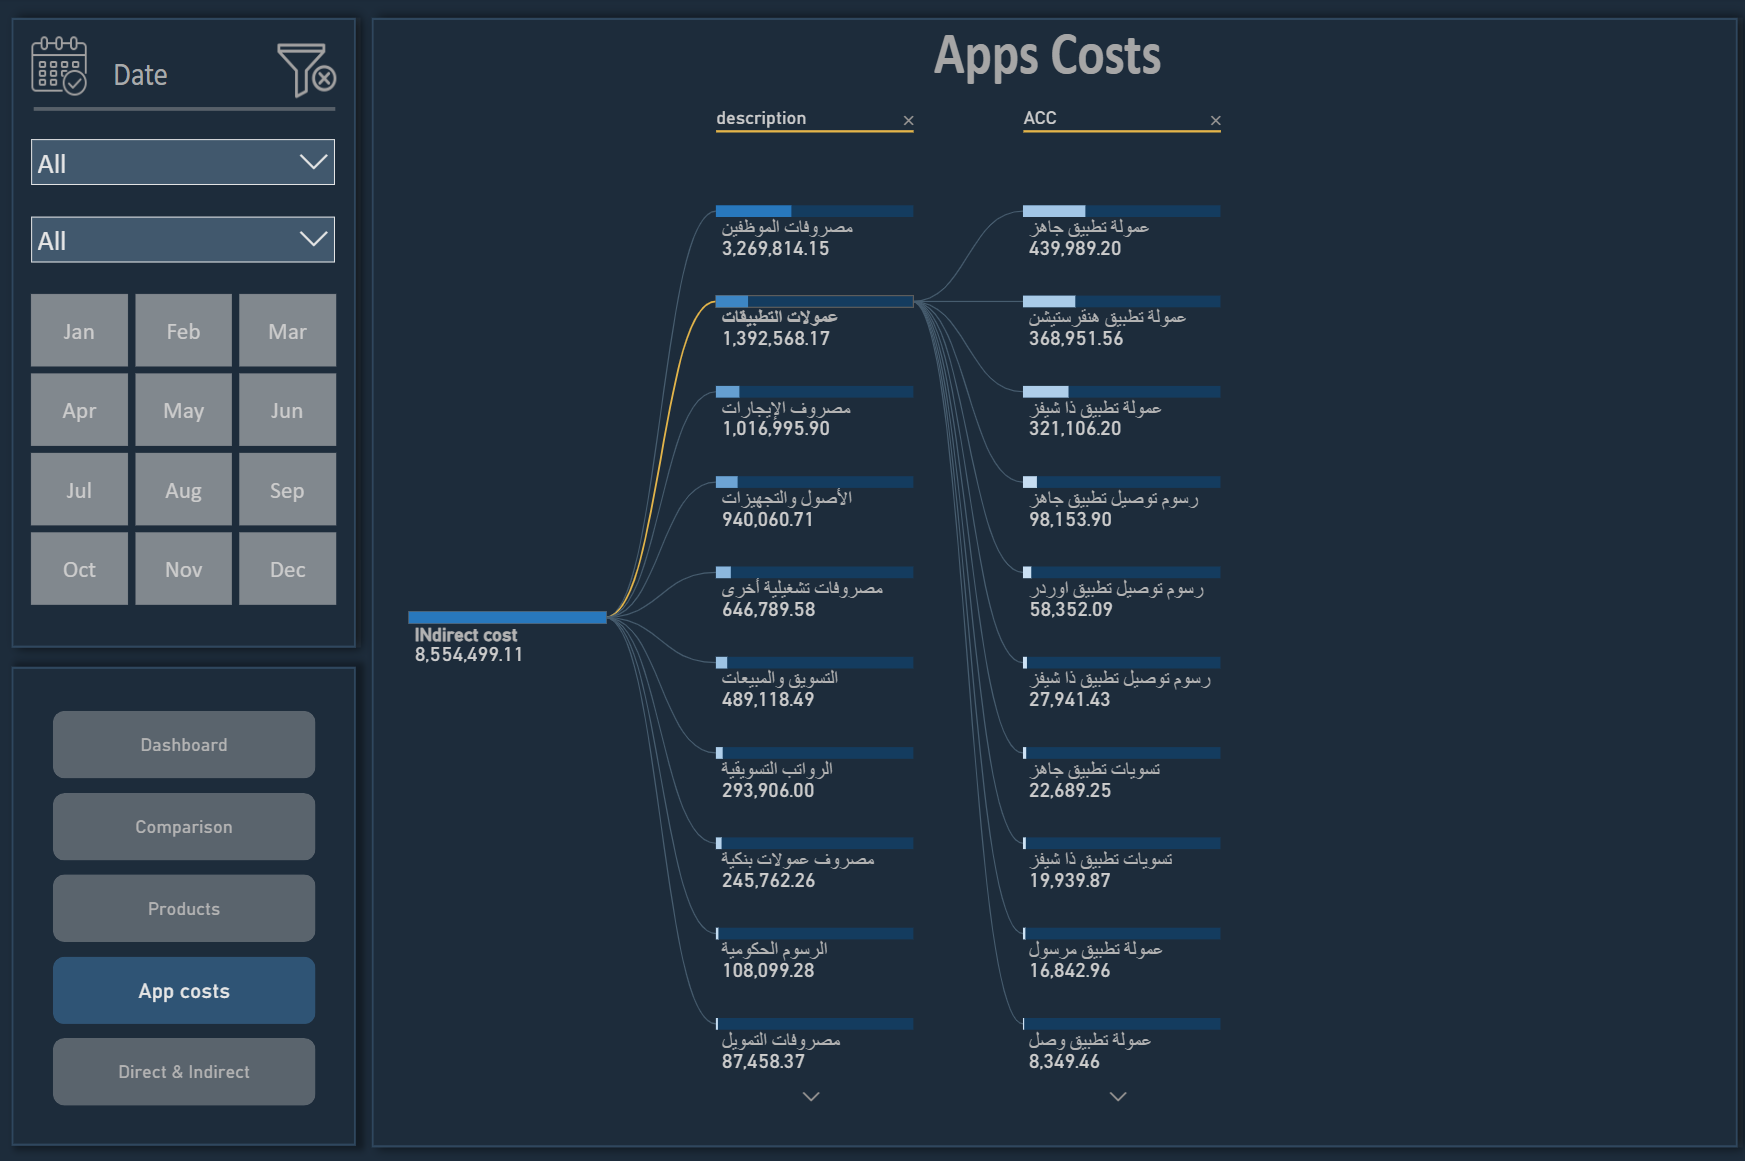

This screenshot's page, from the dashboard's own definition file:
{"tool":"powerbi","page":{"name":"App costs","canvas":[1500,1000],"ordinal":3},"visuals":[{"type":"decompositionTreeVisual","fields":{"Analyze":["A MEASURE.INdierct cost"],"ExplainBy":["Accounts.description","Indirect cost.ACC"]},"box":[324.8,78.7,1159.4,903.5],"z":0},{"type":"pageNavigator","box":[50,611,225.6,340.2],"z":1000},{"type":"advancedSlicerVisual","fields":{"Values":["DATE.month 2"]},"box":[26.3,249.1,272.4,277.8],"z":2000},{"type":"actionButton","box":[241.5,37.8,52.4,46.3],"z":3000},{"type":"slicer","title":"date quarter products","fields":{"Values":["DATE.quarter"]},"box":[21.1,177.8,280,60],"z":4000},{"type":"slicer","title":"date years products","fields":{"Values":["DATE.Date.Variation.Date Hierarchy.Year"]},"box":[21.1,111.1,280,60],"z":5000}]}

Visuals, with their boxes on the page's 1500x1000 design canvas (x1, y1, x2, y2). These are canvas units, not pixel positions in the 1745x1161 screenshot, which may show the page scaled, cropped or inside an application window:
decompositionTreeVisual - A MEASURE.INdierct cost x Accounts.description: 325/79/1484/982
pageNavigator: 50/611/276/951
advancedSlicerVisual - DATE.month 2: 26/249/299/527
actionButton: 242/38/294/84
"date quarter products" slicer: 21/178/301/238
"date years products" slicer: 21/111/301/171
